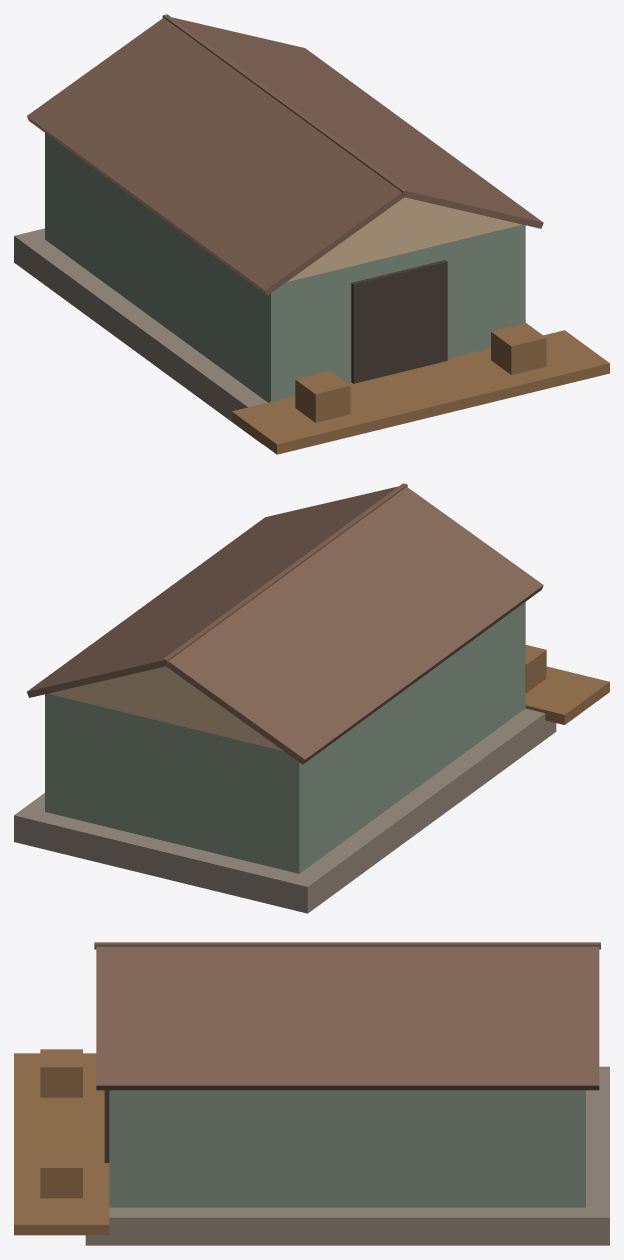
Rendered from arizona-freight-shed_lod0.glb.
3 renders of one model, top to bottom at view 1: azimuth 30°, elevation 25°; view 2: azimuth 150°, elevation 25°; view 3: azimuth 270°, elevation 25°, orthographic. The views are drawn at different scales.
Parts seen in each view (by area): view 1: RF_AZ_Freight_RoofLeft, RF_AZ_Freight_Walls, RF_AZ_Freight_RoofRight, RF_AZ_Freight_Platform, RF_AZ_Freight_Foundation, RF_AZ_Freight_Door, RF_AZ_Freight_Gable, RF_AZ_Freight_Crate, RF_AZ_Freight_Crate.001, RF_AZ_Freight_Ridge; view 2: RF_AZ_Freight_Walls, RF_AZ_Freight_RoofLeft, RF_AZ_Freight_Foundation, RF_AZ_Freight_RoofRight, RF_AZ_Freight_Gable.001, RF_AZ_Freight_Platform, RF_AZ_Freight_Ridge, RF_AZ_Freight_Crate; view 3: RF_AZ_Freight_RoofRight, RF_AZ_Freight_Walls, RF_AZ_Freight_Foundation, RF_AZ_Freight_Platform, RF_AZ_Freight_Ridge, RF_AZ_Freight_Crate, RF_AZ_Freight_Crate.001, RF_AZ_Freight_Door.
Boxes of the visible parts, x1=… form: RF_AZ_Freight_RoofLeft: x1=27, y1=17, x2=405, y2=295; RF_AZ_Freight_Walls: x1=45, y1=133, x2=525, y2=402; RF_AZ_Freight_RoofRight: x1=172, y1=17, x2=543, y2=228; RF_AZ_Freight_Platform: x1=232, y1=330, x2=609, y2=454; RF_AZ_Freight_Foundation: x1=14, y1=228, x2=267, y2=444; RF_AZ_Freight_Door: x1=351, y1=260, x2=447, y2=383; RF_AZ_Freight_Gable: x1=287, y1=197, x2=521, y2=281; RF_AZ_Freight_Crate: x1=295, y1=371, x2=350, y2=422; RF_AZ_Freight_Crate.001: x1=491, y1=323, x2=546, y2=374; RF_AZ_Freight_Ridge: x1=162, y1=14, x2=407, y2=195; RF_AZ_Freight_Walls: x1=45, y1=602, x2=525, y2=873; RF_AZ_Freight_RoofLeft: x1=165, y1=487, x2=543, y2=764; RF_AZ_Freight_Foundation: x1=14, y1=708, x2=556, y2=913; RF_AZ_Freight_RoofRight: x1=27, y1=486, x2=398, y2=697; RF_AZ_Freight_Gable.001: x1=48, y1=666, x2=283, y2=751; RF_AZ_Freight_Platform: x1=525, y1=666, x2=609, y2=724; RF_AZ_Freight_Ridge: x1=162, y1=483, x2=407, y2=664; RF_AZ_Freight_Crate: x1=525, y1=645, x2=546, y2=693; RF_AZ_Freight_RoofRight: x1=96, y1=946, x2=599, y2=1090; RF_AZ_Freight_Walls: x1=109, y1=1090, x2=585, y2=1207; RF_AZ_Freight_Foundation: x1=85, y1=1066, x2=609, y2=1245; RF_AZ_Freight_Platform: x1=14, y1=1053, x2=109, y2=1235; RF_AZ_Freight_Ridge: x1=94, y1=942, x2=600, y2=949; RF_AZ_Freight_Crate: x1=40, y1=1049, x2=82, y2=1097; RF_AZ_Freight_Crate.001: x1=40, y1=1150, x2=82, y2=1198; RF_AZ_Freight_Door: x1=104, y1=1090, x2=109, y2=1162.
Size of the model in its own units: 17 by 10.49 by 25.
